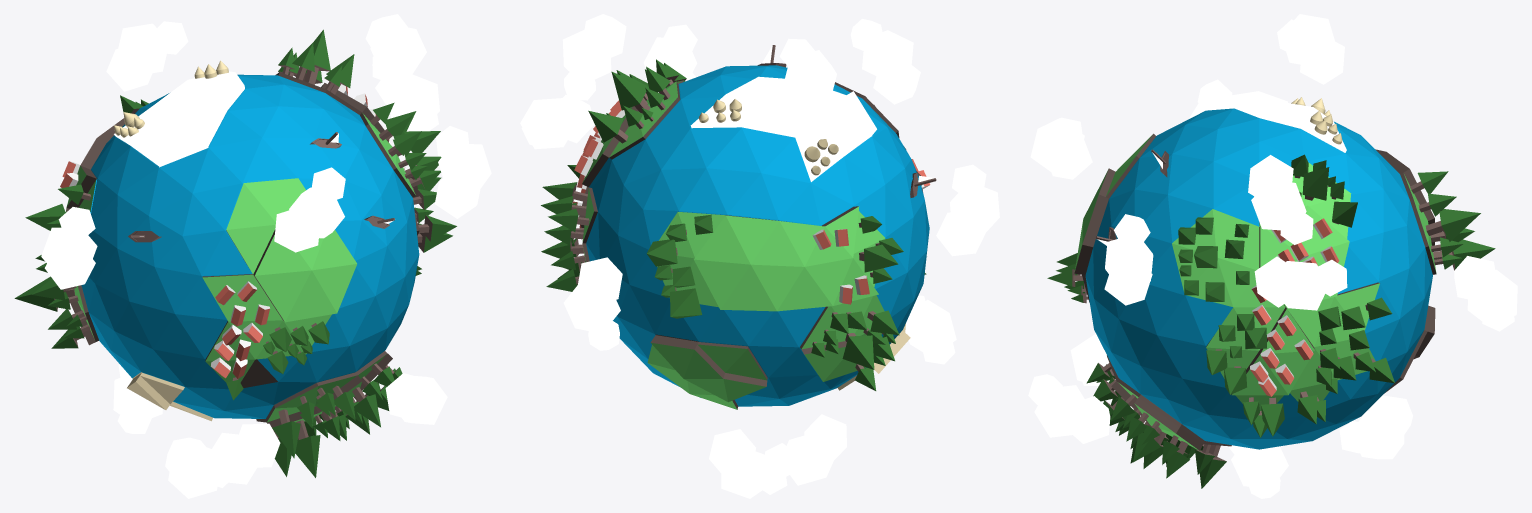
The model's file is planet.glb.
3 views of the same model, side by side, from view 1: azimuth 30°, elevation 25°; view 2: azimuth 150°, elevation 25°; view 3: azimuth 270°, elevation 25° (orthographic).
Visible parts, largest first — view 1: Icosphere, Icosphere.009, Icosphere.006, Icosphere.002, Icosphere.003, Icosphere.008, Icosphere.001, Icosphere.004, Icosphere.005, Icosphere.007, Icosphere.010, Plane.102 (+5 smaller); view 2: Icosphere, Icosphere.011, Icosphere.008, Icosphere.009, Icosphere.001, Icosphere.003, Icosphere.010, Icosphere.007, Icosphere.004, Icosphere.006, Icosphere.002, Plane.006 (+7 smaller); view 3: Icosphere, Icosphere.001, Icosphere.005, Icosphere.004, Icosphere.002, Icosphere.011, Icosphere.010, Icosphere.003, Icosphere.009, Icosphere.007, Icosphere.006, Plane.056 (+6 smaller).
Part boxes in pixels (x1=…): Icosphere: x1=65, y1=71, x2=419, y2=428; Icosphere.009: x1=274, y1=167, x2=345, y2=252; Icosphere.006: x1=188, y1=423, x2=280, y2=484; Icosphere.002: x1=434, y1=126, x2=491, y2=218; Icosphere.003: x1=106, y1=21, x2=188, y2=91; Icosphere.008: x1=41, y1=207, x2=97, y2=289; Icosphere.001: x1=365, y1=14, x2=426, y2=83; Icosphere.004: x1=375, y1=74, x2=439, y2=131; Icosphere.005: x1=385, y1=373, x2=447, y2=424; Icosphere.007: x1=165, y1=437, x2=227, y2=498; Icosphere.010: x1=113, y1=363, x2=162, y2=433; Plane.102: x1=295, y1=420, x2=320, y2=477; Icosphere: x1=579, y1=65, x2=929, y2=409; Icosphere.011: x1=563, y1=257, x2=622, y2=350; Icosphere.008: x1=936, y1=164, x2=999, y2=256; Icosphere.009: x1=850, y1=19, x2=920, y2=104; Icosphere.001: x1=562, y1=14, x2=626, y2=100; Icosphere.003: x1=779, y1=38, x2=836, y2=125; Icosphere.010: x1=709, y1=429, x2=787, y2=498; Icosphere.007: x1=765, y1=414, x2=846, y2=485; Icosphere.004: x1=520, y1=94, x2=594, y2=149; Icosphere.006: x1=905, y1=295, x2=956, y2=364; Icosphere.002: x1=643, y1=24, x2=697, y2=92; Plane.006: x1=611, y1=71, x2=649, y2=113; Icosphere: x1=1074, y1=91, x2=1436, y2=450; Icosphere.001: x1=1248, y1=155, x2=1313, y2=244; Icosphere.005: x1=1028, y1=374, x2=1110, y2=443; Icosphere.004: x1=1254, y1=256, x2=1347, y2=310; Icosphere.002: x1=1104, y1=214, x2=1153, y2=305; Icosphere.011: x1=1454, y1=256, x2=1517, y2=331; Icosphere.010: x1=1339, y1=395, x2=1412, y2=459; Icosphere.003: x1=1277, y1=14, x2=1344, y2=84; Icosphere.009: x1=1030, y1=117, x2=1092, y2=179; Icosphere.007: x1=1228, y1=445, x2=1288, y2=498; Icosphere.006: x1=1070, y1=334, x2=1109, y2=386; Plane.056: x1=1425, y1=209, x2=1480, y2=241.
Bounding box in the file's own units: 2.99 × 3.04 × 2.93.
